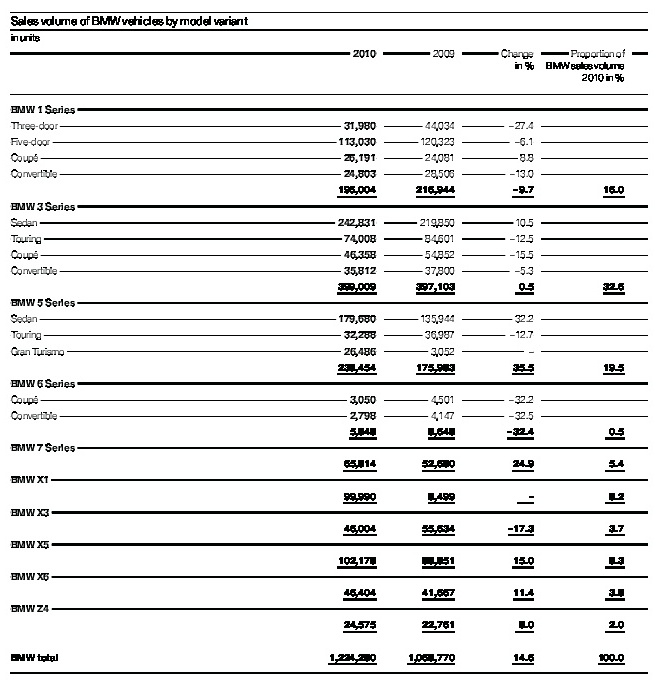table: (0, 0, 662, 691)
